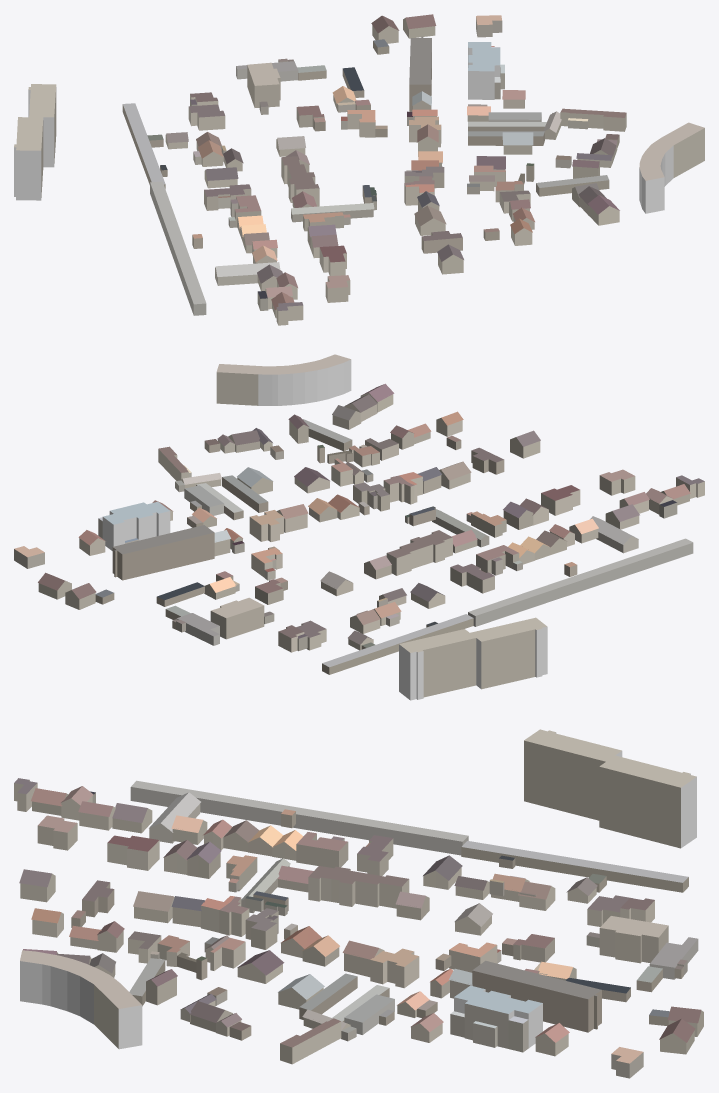
3 renders of one model, top to bottom at view 1: azimuth 30°, elevation 25°; view 2: azimuth 150°, elevation 25°; view 3: azimuth 270°, elevation 25°, orthographic. The views are drawn at different scales.
Visible parts, largest first — view 1: tuile; view 2: tuile; view 3: tuile.
Part boxes in pixels (<box>): tuile: <box>14,14,704,325</box>; tuile: <box>14,354,704,700</box>; tuile: <box>14,729,703,1078</box>.
Size of the model in its own units: 277 by 37.24 by 260.
